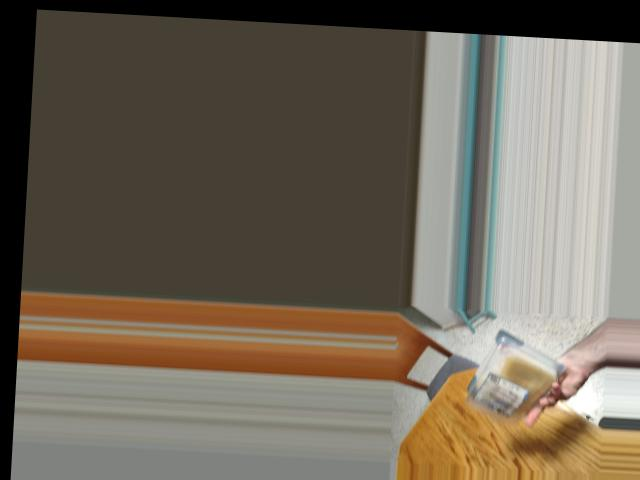cheese: (468, 344, 558, 420)
